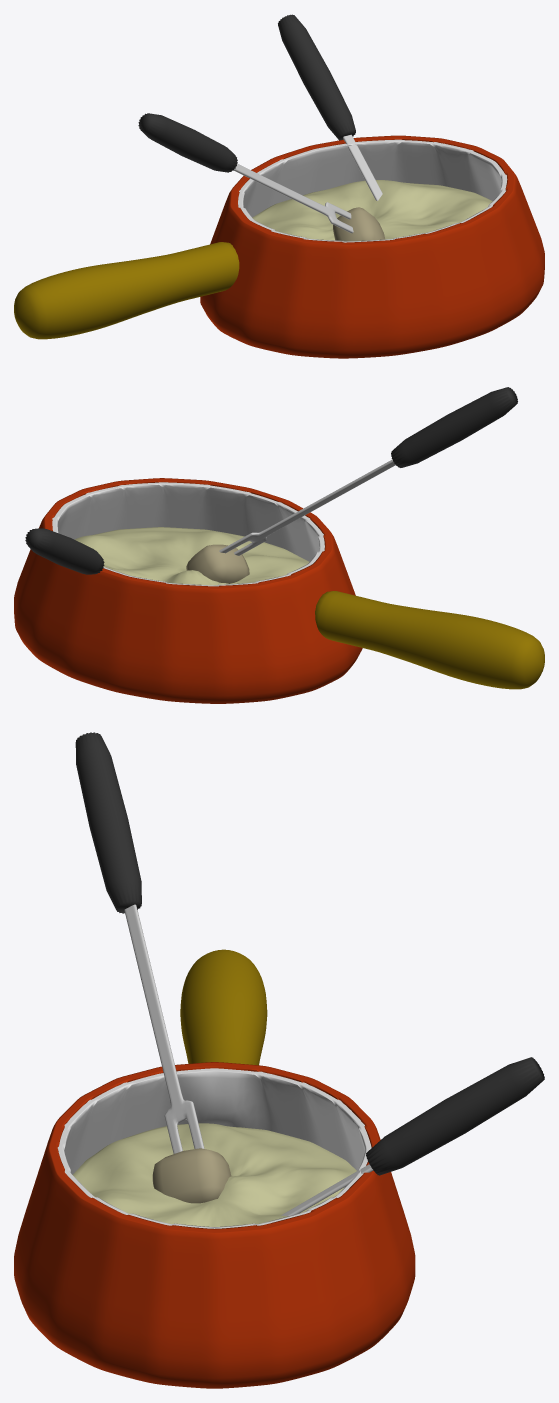
Rendered from FondueGeo 1.fbx.
3 renders of one model, top to bottom at view 1: azimuth 30°, elevation 25°; view 2: azimuth 150°, elevation 25°; view 3: azimuth 270°, elevation 25°, orthographic. The views are drawn at different scales.
Parts seen in each view (by area): view 1: fonduegeo; view 2: fonduegeo; view 3: fonduegeo.
Part boxes in pixels (x1,y1,x2,y2): fonduegeo: (14, 14, 544, 358); fonduegeo: (14, 387, 544, 703); fonduegeo: (14, 732, 544, 1388).
Size of the model in its own units: 198 by 107 by 132.
